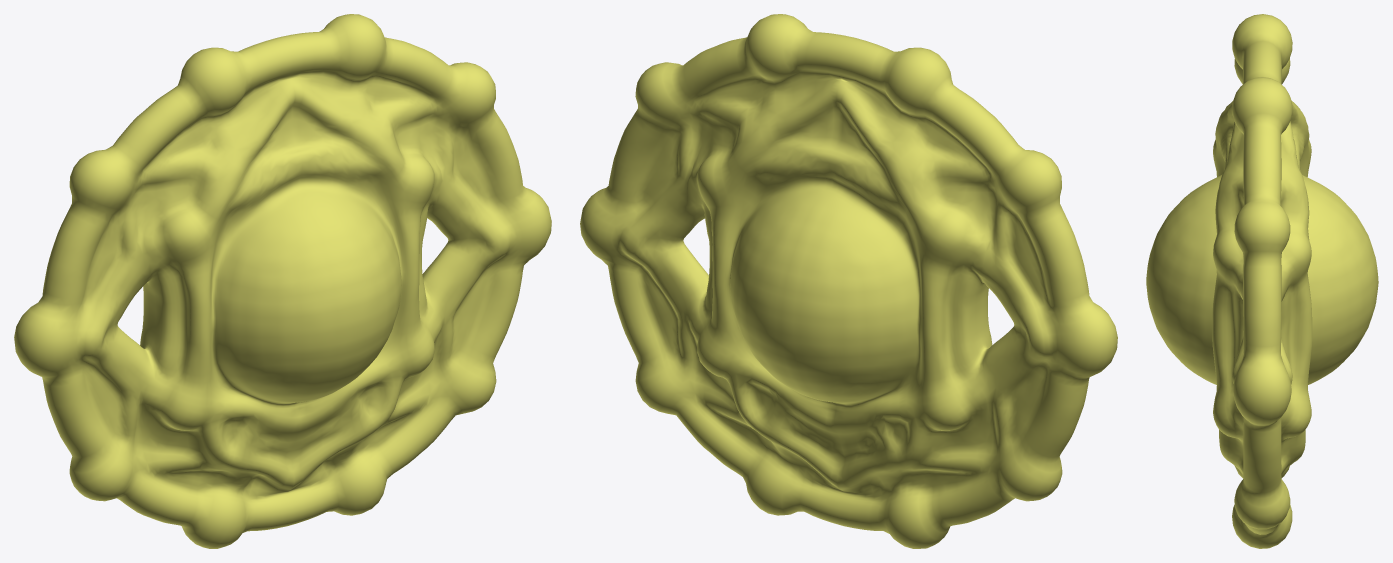
The model's file is nosepin-golden.glb.
3 renders of one model, left to right at view 1: azimuth 30°, elevation 25°; view 2: azimuth 150°, elevation 25°; view 3: azimuth 270°, elevation 25°, orthographic. The views are drawn at different scales.
Visible parts, largest first — view 1: model; view 2: model; view 3: model.
Boxes of the visible parts, x1,y1,x2,y2 form: model: [14, 14, 551, 548]; model: [580, 14, 1117, 548]; model: [1146, 14, 1378, 548].
Bounding box in the file's own units: 1.91 × 1.7 × 0.7713.
